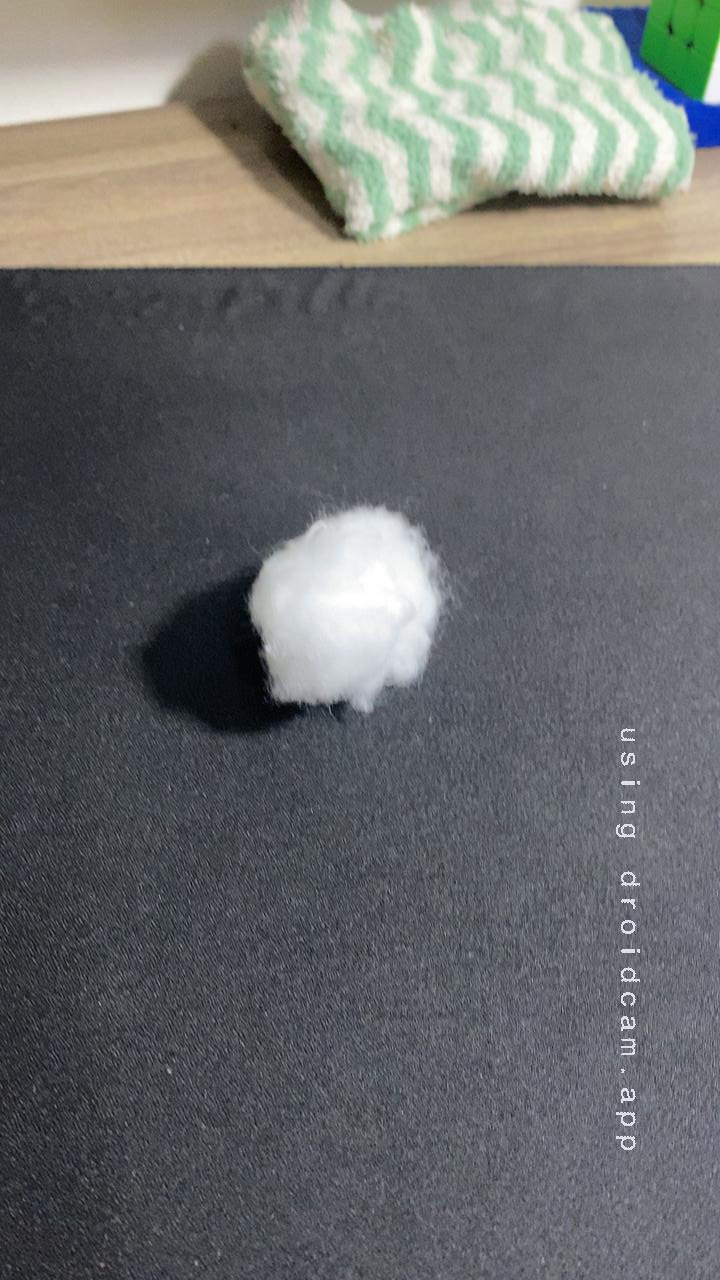cotton: (221, 479, 475, 739)
